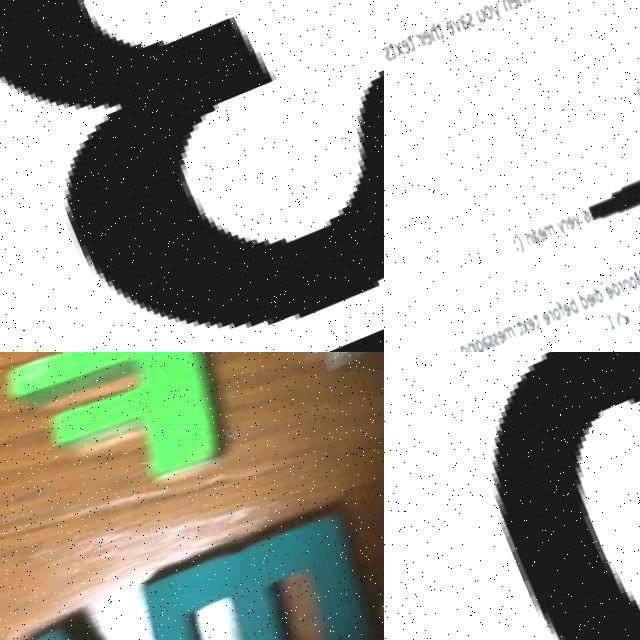3: (0, 0, 384, 352)
A: (454, 15, 469, 36), (523, 232, 537, 251), (472, 337, 484, 352)
B: (485, 352, 640, 640), (559, 298, 574, 320)
D: (569, 294, 584, 316), (585, 288, 600, 309)
E: (417, 29, 431, 49), (395, 38, 409, 58), (558, 218, 572, 237), (529, 230, 543, 249), (553, 304, 567, 323), (517, 319, 531, 338), (440, 21, 453, 41), (596, 288, 610, 306), (627, 306, 640, 324), (628, 90, 640, 108), (533, 313, 545, 331), (488, 331, 500, 349), (504, 0, 516, 14), (578, 297, 589, 312), (614, 0, 628, 6), (531, 0, 544, 5)
F: (0, 352, 241, 533), (547, 304, 560, 324)
G: (464, 339, 479, 352), (450, 345, 465, 352)
H: (423, 24, 438, 46), (510, 0, 523, 11)
I: (414, 30, 423, 50), (583, 293, 591, 310), (579, 210, 586, 227), (463, 339, 471, 352)
K: (633, 300, 640, 321)
L: (344, 428, 384, 640)
M: (101, 501, 384, 640), (624, 271, 640, 293), (535, 226, 552, 244), (494, 328, 509, 345)
N: (517, 234, 530, 252), (496, 0, 509, 17), (614, 282, 626, 298), (457, 342, 469, 352)
O: (478, 7, 492, 26), (603, 285, 616, 303), (543, 309, 556, 327), (620, 279, 633, 296)
R: (411, 34, 420, 51), (555, 222, 564, 238), (610, 285, 618, 300), (540, 313, 548, 328), (636, 89, 640, 104)
S: (460, 12, 474, 32), (477, 335, 489, 352), (483, 334, 494, 351), (575, 214, 585, 230), (384, 45, 390, 64)
T: (431, 23, 444, 44), (384, 42, 395, 63), (523, 315, 535, 333), (402, 36, 413, 55), (506, 322, 517, 340)
U: (471, 10, 485, 28)
V: (447, 19, 461, 38), (566, 217, 578, 234)
W: (519, 0, 535, 8)
X: (388, 42, 402, 61), (512, 323, 523, 338)
Y: (485, 4, 502, 28), (549, 223, 562, 243)
